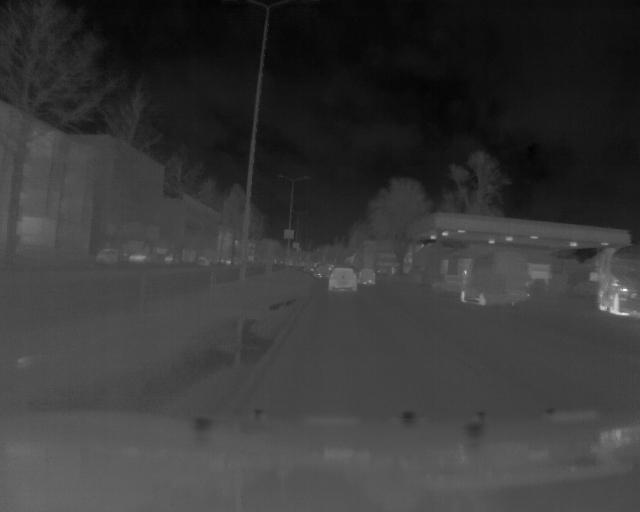car: (457, 249, 531, 309), (591, 247, 640, 318), (326, 267, 358, 293), (356, 268, 378, 285)
